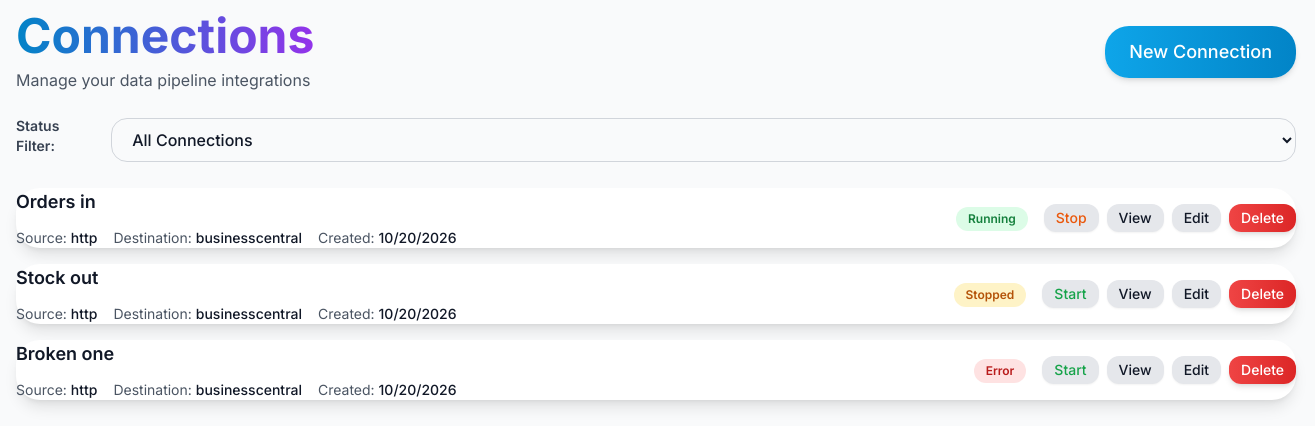
ConnectionsList: stop and start › Start with no status in the answer shows the connection running
Expected: the heading "Stock out" is shown, [16, 267, 98, 288]
Click the button "Start" next to "Stopped". click: point(1071, 294)
box: [1042, 280, 1099, 308]
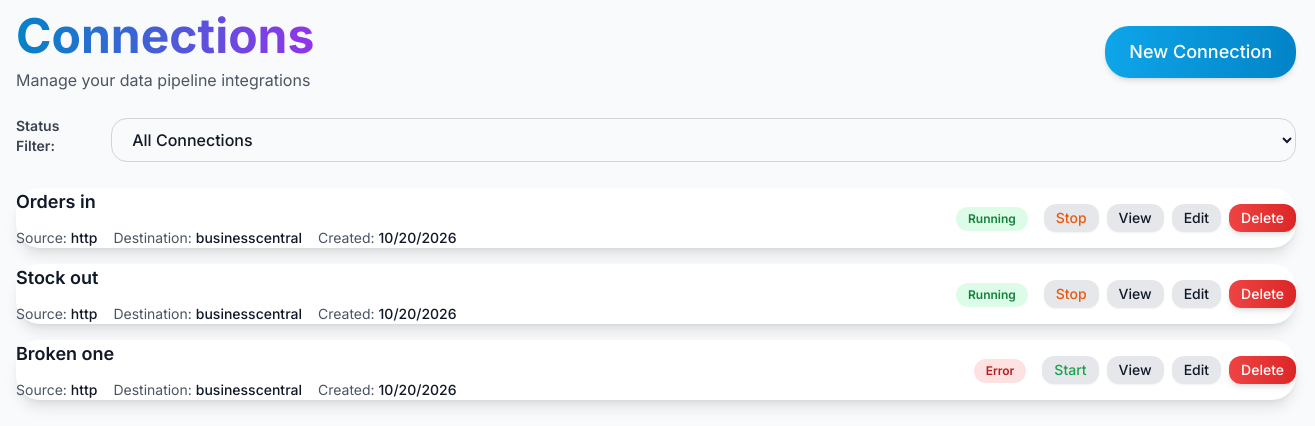
Expected: the text "Running" in the row of "Stock out" is shown, [968, 287, 1016, 302]
